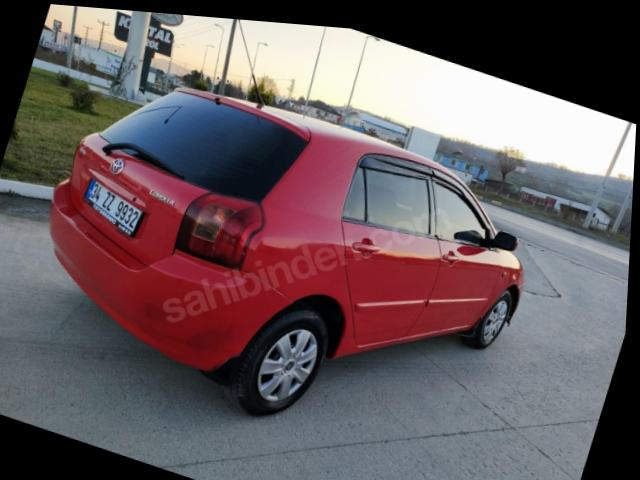plaka: (83, 180, 142, 236)
